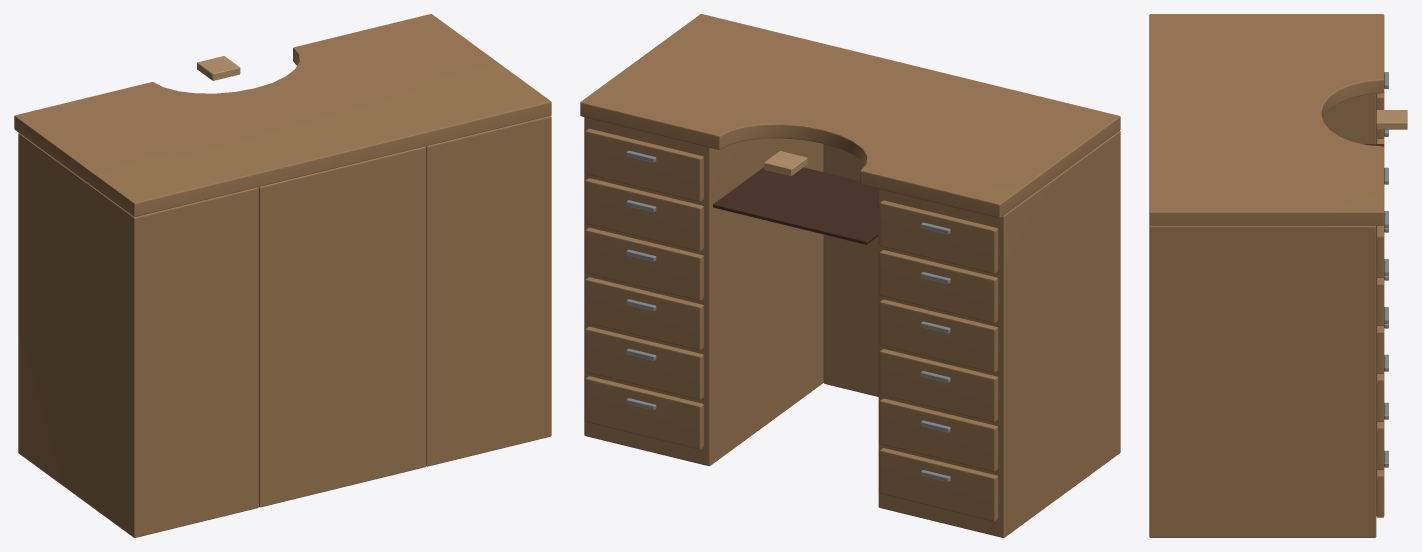
Rendered from prop_jeweler_bench.glb.
The picture shows the model from 3 angles, left to right: view 1: azimuth 30°, elevation 25°; view 2: azimuth 150°, elevation 25°; view 3: azimuth 270°, elevation 25°; orthographic projection. The views are drawn at different scales.
Visible parts, largest first — view 1: Bench; view 2: Bench; view 3: Bench.
Part boxes in pixels (left/top/right/bottom): Bench: left=14, top=14, right=551, bottom=537; Bench: left=580, top=14, right=1120, bottom=537; Bench: left=1149, top=14, right=1407, bottom=537.
Size of what is drawn, in the model's own units: 1.2 by 0.92 by 0.66.
